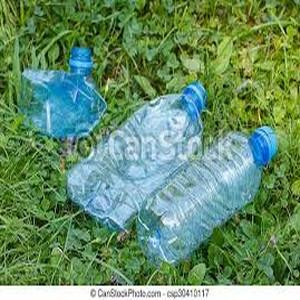Plastic: (142, 124, 293, 263), (18, 45, 109, 143)
